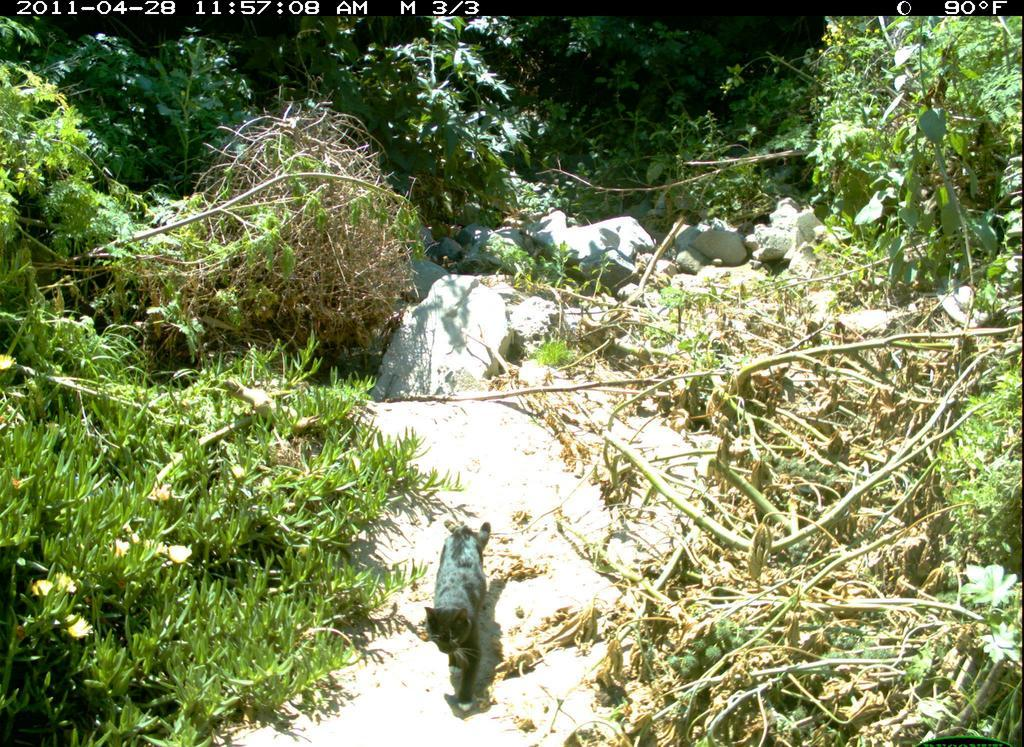cat: (419, 516, 525, 716)
